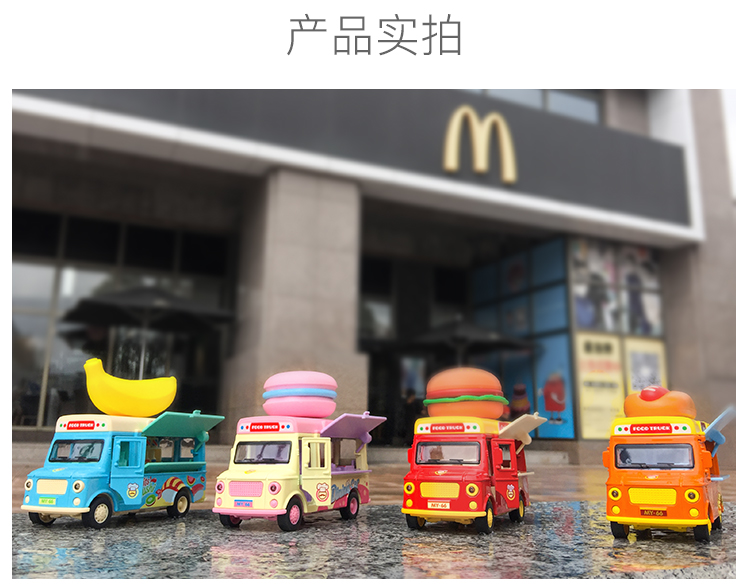Car: (18, 357, 215, 535), (200, 364, 389, 540), (395, 360, 556, 542), (591, 378, 735, 552)
